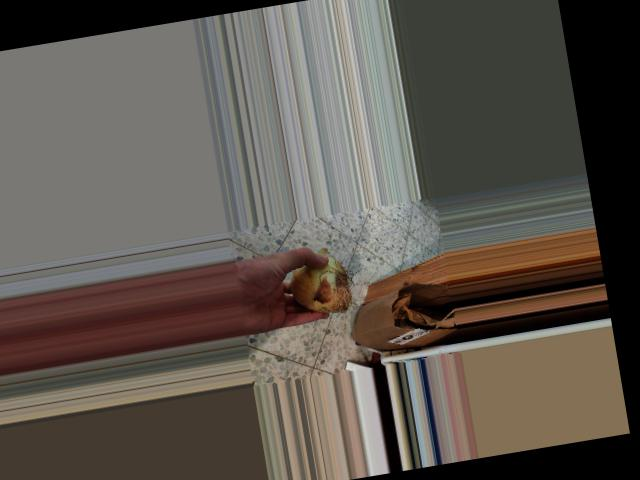onion: (281, 244, 356, 321)
